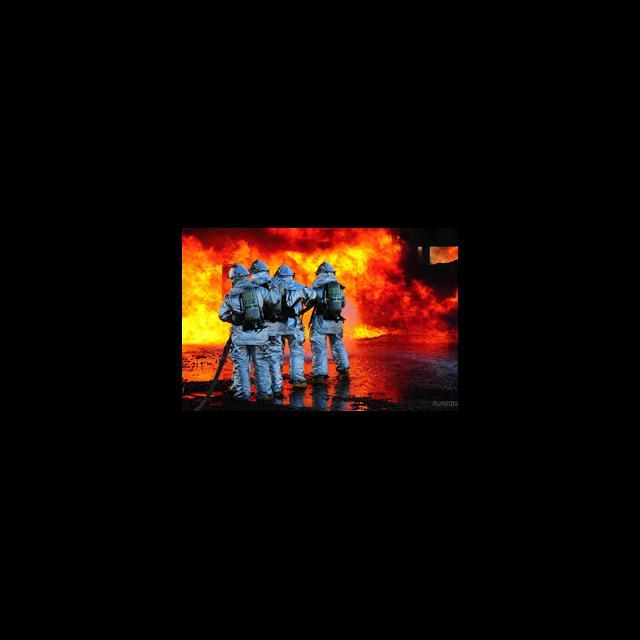Fire: (362, 272, 456, 338), (183, 228, 217, 346), (218, 228, 332, 262), (337, 228, 399, 270)
